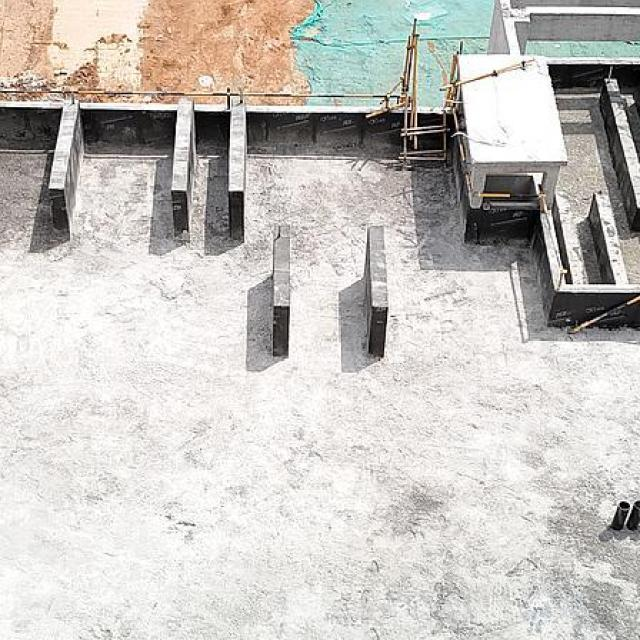edge_guardrail: (0, 85, 406, 108), (472, 193, 564, 291), (564, 294, 640, 335), (451, 108, 472, 191)
